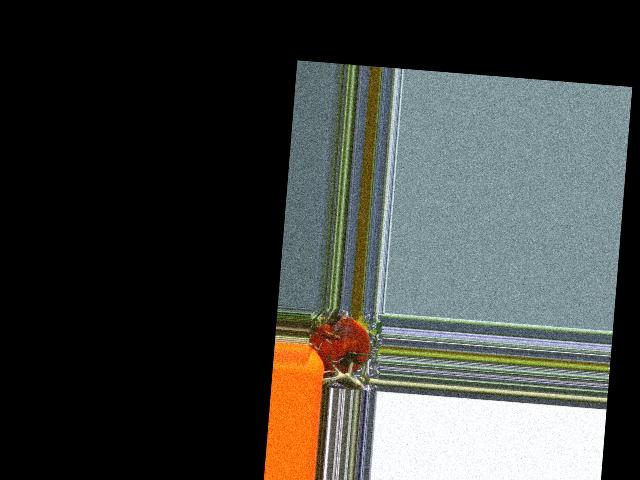tomato: (307, 313, 372, 375)
